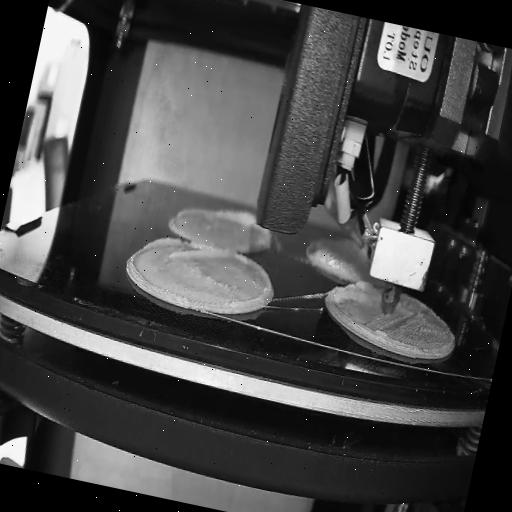over_extrusion: (143, 229, 232, 270), (226, 252, 278, 312), (334, 277, 380, 305), (217, 204, 258, 228)
